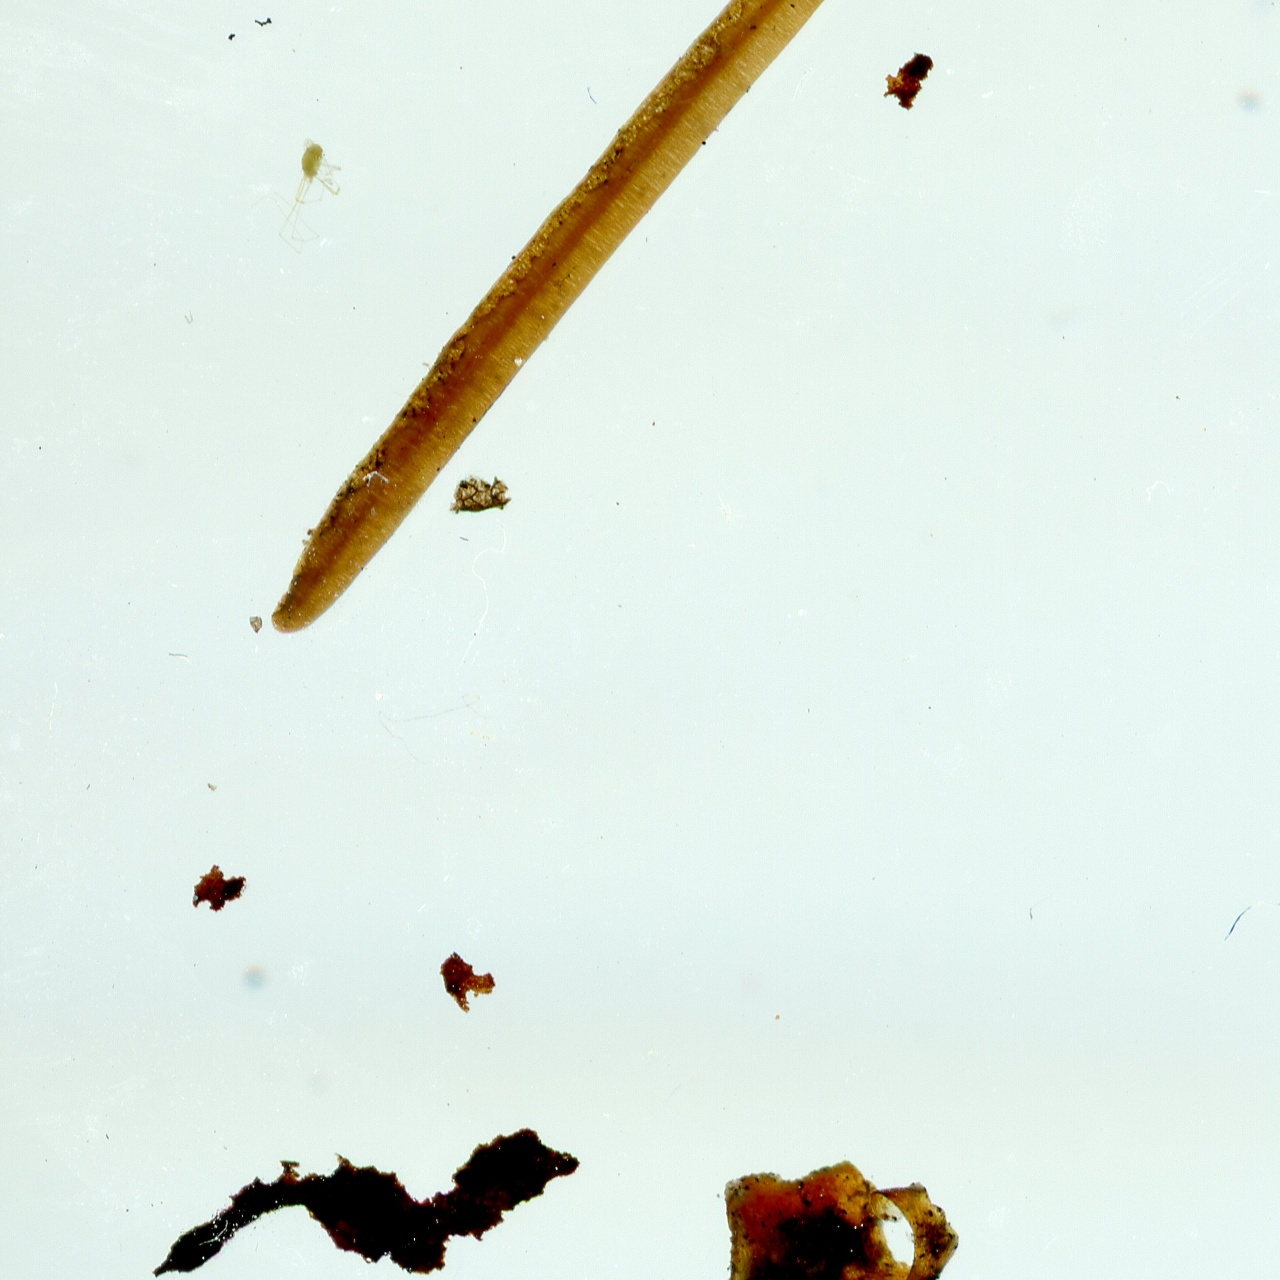arthropod: (236, 122, 359, 267)
